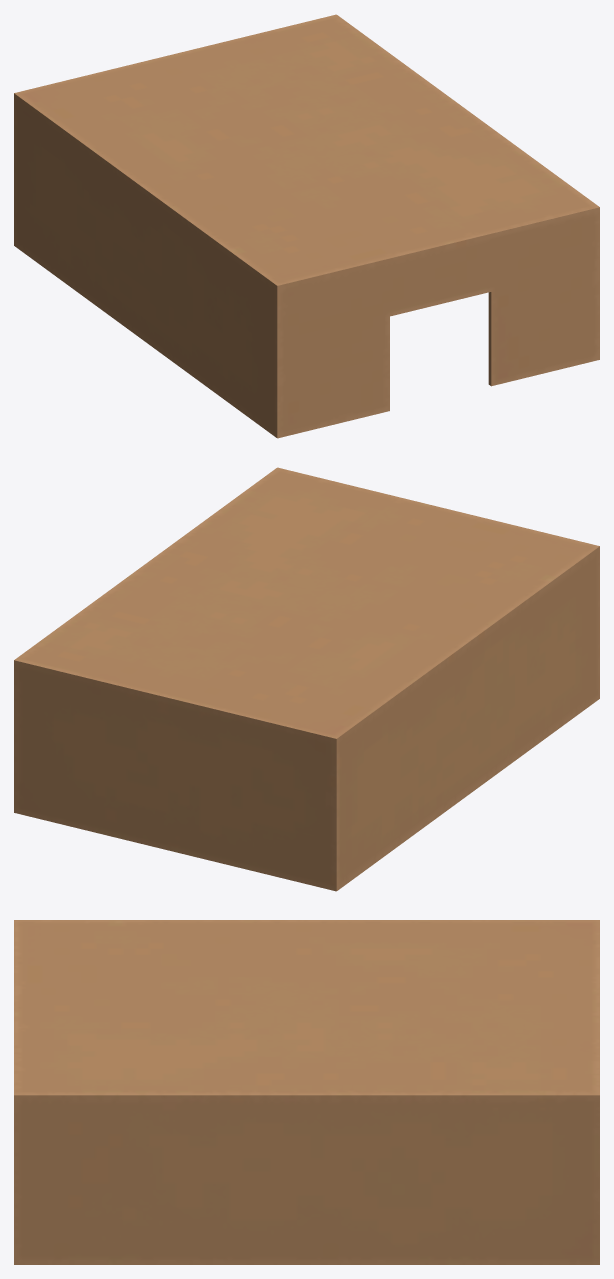
File: CardboardBoxWithHole.fbx
The picture shows the model from 3 angles, top to bottom: view 1: azimuth 30°, elevation 25°; view 2: azimuth 150°, elevation 25°; view 3: azimuth 270°, elevation 25°; orthographic projection. The views are drawn at different scales.
Visible parts, largest first — view 1: Cube.091; view 2: Cube.091; view 3: Cube.091.
Boxes of the visible parts, x1,y1,x2,y2 form: Cube.091: (14,14,599,438); Cube.091: (14,467,599,891); Cube.091: (14,920,599,1264).
Size of the model in its own units: 1165 by 527 by 1647.
